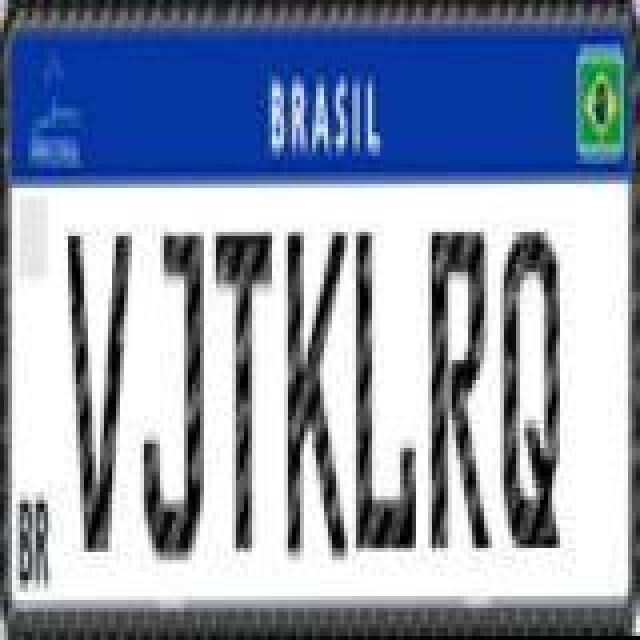J: (144, 228, 208, 568)
K: (284, 230, 348, 566)
L: (352, 224, 416, 556)
Q: (496, 224, 560, 552)
R: (428, 228, 492, 560)
T: (214, 224, 274, 556)
V: (66, 226, 134, 558)
